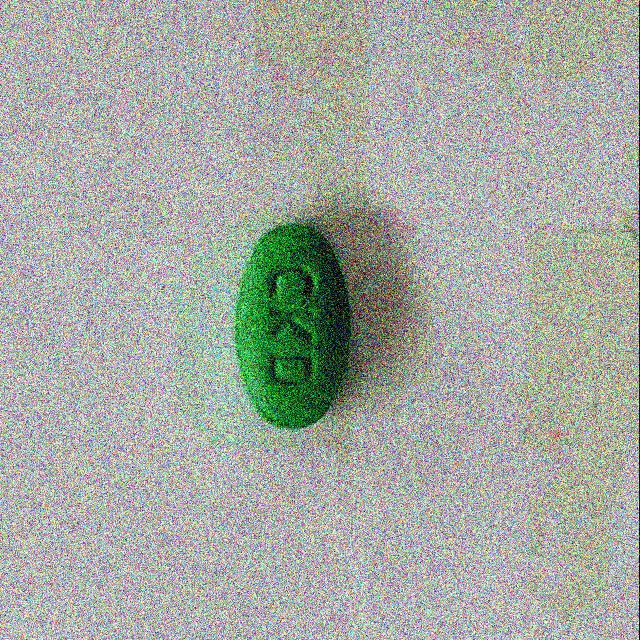pill: (229, 219, 357, 433)
